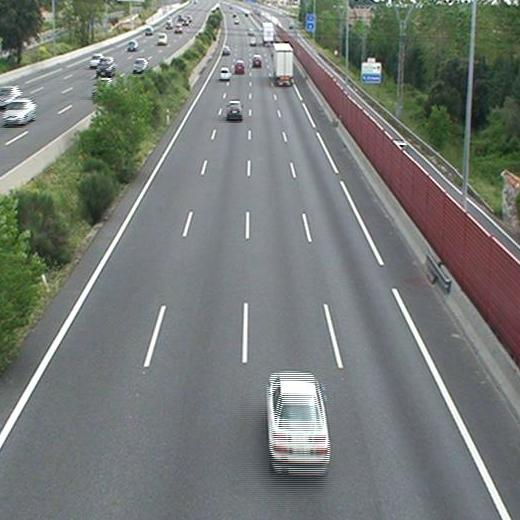car: (267, 372, 329, 469), (226, 102, 241, 118), (218, 68, 232, 79), (234, 60, 245, 73), (252, 55, 263, 66), (221, 47, 231, 57)
truck: (273, 43, 292, 84), (261, 22, 274, 45)
